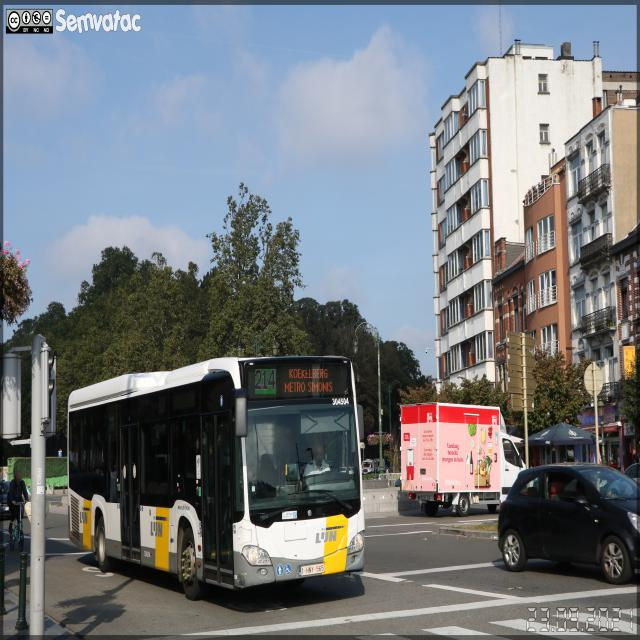bus-number: (255, 368, 276, 394)
